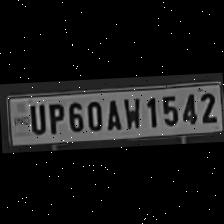0: (84, 96, 104, 130)
1: (141, 93, 159, 127)
2: (196, 88, 218, 122)
4: (178, 88, 198, 124)
5: (157, 90, 179, 124)
6: (63, 97, 83, 131)
A: (102, 94, 122, 130)
P: (44, 97, 64, 132)
U: (24, 99, 46, 134)
W: (120, 93, 142, 129)
